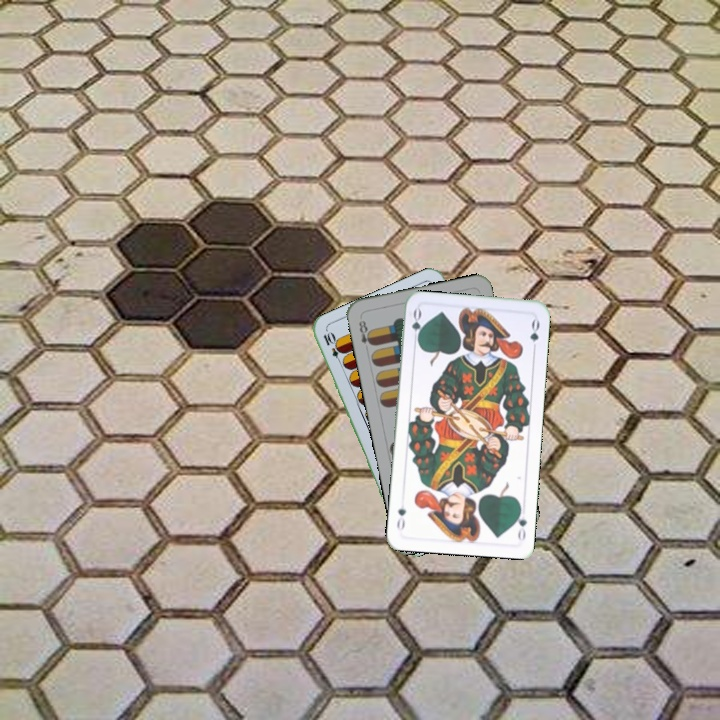E10: (319, 328, 346, 367)
E8: (355, 316, 376, 354)
GO: (511, 502, 529, 543), (408, 305, 424, 346)
